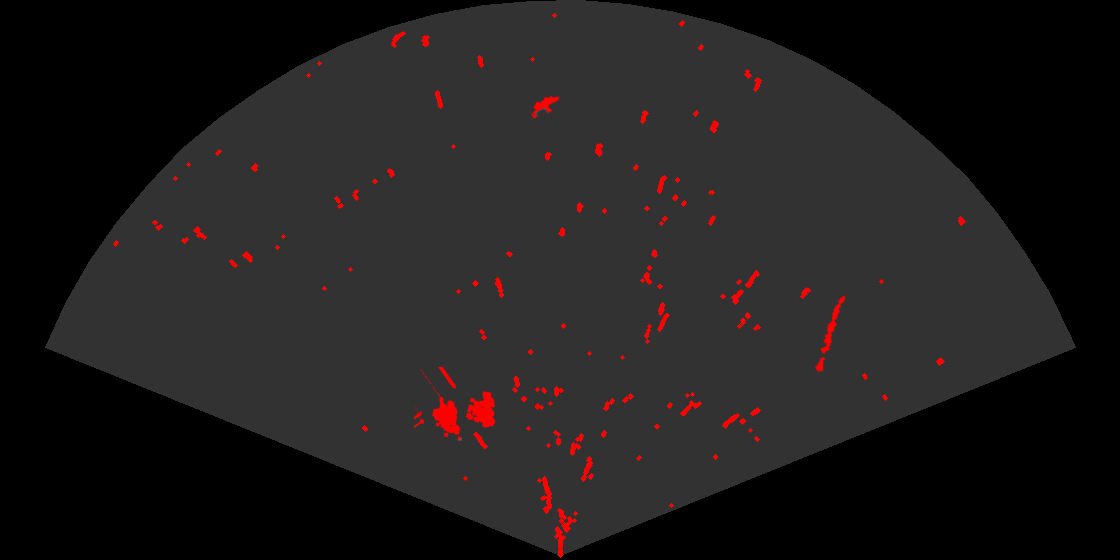AUV: (530, 94, 561, 120)
cage: (414, 367, 497, 442)
chain: (813, 293, 847, 374)
